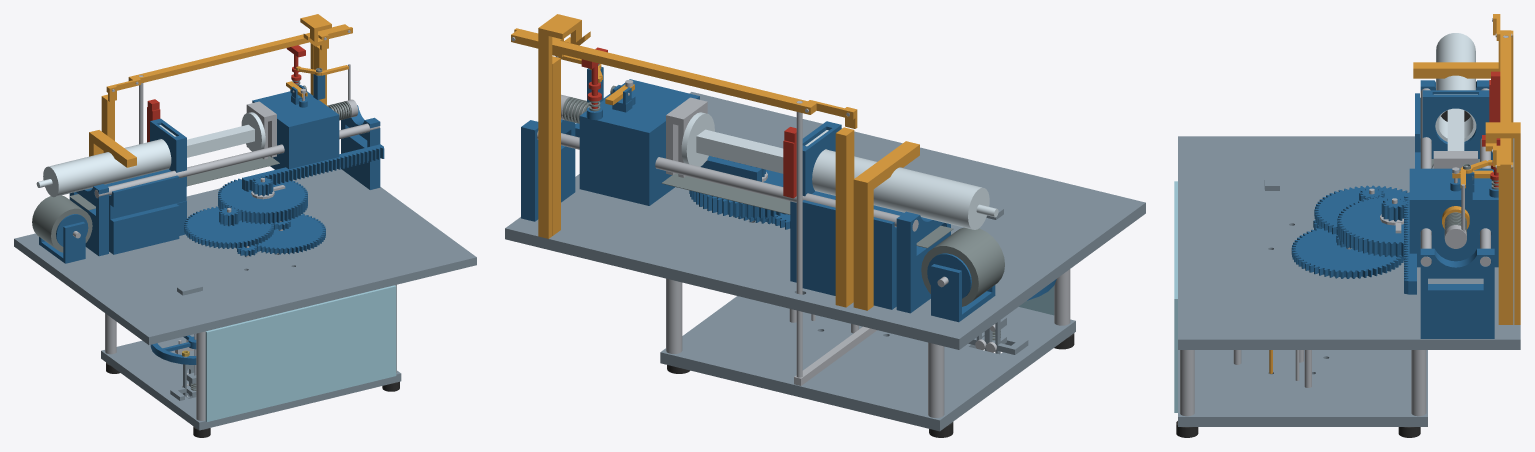
File: chronoflow_assembly.glb
3 views of the same model, side by side, from view 1: azimuth 30°, elevation 25°; view 2: azimuth 150°, elevation 25°; view 3: azimuth 270°, elevation 25° (orthographic). The views are drawn at different scales.
Visible parts, largest first — view 1: deck plate, balance window, syringe cradle + flange latch, carriage + rack, bottom plate, syringe barrel (BD 20 mL), rail posts, W1 60T, W2 60T, trip rail, rails 6 mm, plunger (+10 smaller); view 2: deck plate, bottom plate, carriage + rack, syringe cradle + flange latch, syringe barrel (BD 20 mL), rail posts, trip rail posts, trip reset ramp, trip rail, barrel clamp, pillars, plunger (+10 smaller); view 3: deck plate, bottom plate, carriage + rack, rail posts, W3 60T, syringe cradle + flange latch, trip rail posts, W1 60T, syringe barrel (BD 20 mL), trip reset ramp, pillars, trip rail (+9 smaller).
Part boxes in pixels (<box>): deck plate: <box>14,168,476,344</box>; balance window: <box>205,285,396,421</box>; syringe cradle + flange latch: <box>105,118,186,254</box>; carriage + rack: <box>242,91,384,191</box>; bottom plate: <box>101,334,401,430</box>; syringe barrel (BD 20 mL): <box>36,125,176,197</box>; rail posts: <box>69,105,380,256</box>; W1 60T: <box>218,177,307,224</box>; W2 60T: <box>184,206,274,248</box>; trip rail: <box>128,24,348,83</box>; rails 6 mm: <box>94,123,379,198</box>; plunger: <box>187,112,265,157</box>; deck plate: <box>505,92,1145,349</box>; bottom plate: <box>660,296,1075,431</box>; carriage + rack: <box>575,79,761,205</box>; syringe cradle + flange latch: <box>790,121,904,309</box>; syringe barrel (BD 20 mL): <box>805,130,998,229</box>; rail posts: <box>521,119,950,313</box>; trip rail posts: <box>552,39,857,307</box>; trip reset ramp: <box>538,14,590,238</box>; trip rail: <box>511,30,816,114</box>; barrel clamp: <box>853,141,919,310</box>; pillars: <box>666,269,1070,417</box>; plunger: <box>681,112,783,173</box>; deck plate: <box>1178,136,1520,349</box>; bottom plate: <box>1178,350,1427,426</box>; carriage + rack: <box>1404,168,1498,294</box>; rail posts: <box>1420,80,1494,338</box>; W3 60T: <box>1291,227,1403,278</box>; syringe cradle + flange latch: <box>1415,90,1492,168</box>; trip rail posts: <box>1493,14,1513,324</box>; W1 60T: <box>1337,195,1403,257</box>; syringe barrel (BD 20 mL): <box>1434,33,1477,141</box>; trip reset ramp: <box>1485,122,1520,324</box>; pillars: <box>1180,350,1426,416</box>; trip rail: <box>1500,30,1511,171</box>.
Bounding box in the file's own units: 262 × 200 × 187.
